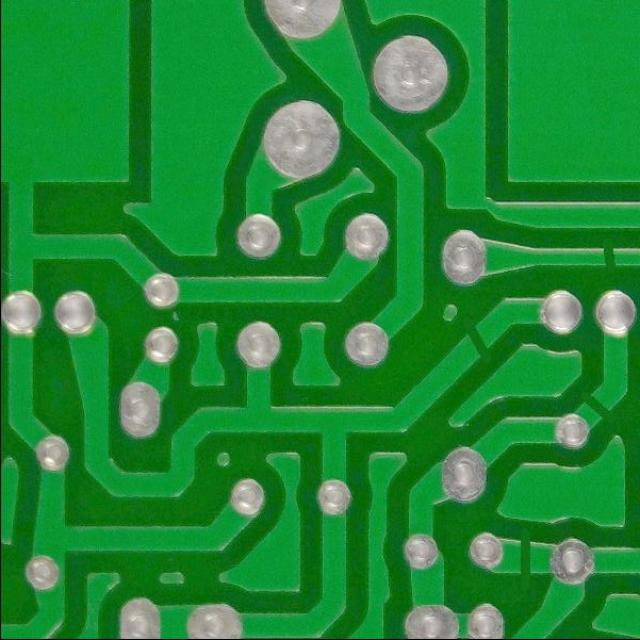open_circuit: (508, 532, 538, 590), (578, 388, 616, 428), (462, 319, 490, 360), (596, 242, 622, 276)
